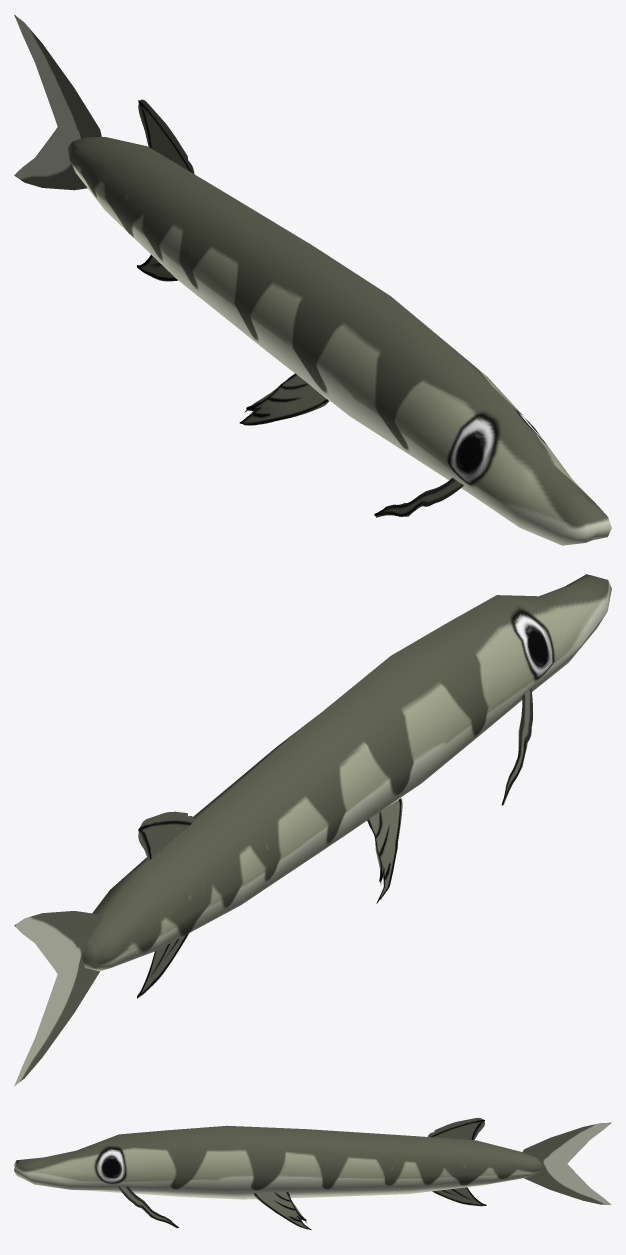
The model's file is Banana_Fish.fbx.
The picture shows the model from 3 angles, top to bottom: view 1: azimuth 30°, elevation 25°; view 2: azimuth 150°, elevation 25°; view 3: azimuth 270°, elevation 25°; orthographic projection. The views are drawn at different scales.
Parts seen in each view (by area): view 1: Sphere.003; view 2: Sphere.003; view 3: Sphere.003.
Part boxes in pixels (x1,y1,x2,y2): Sphere.003: (14,14,611,545); Sphere.003: (14,574,611,1086); Sphere.003: (14,1117,611,1229).
Size of the model in its own units: 74.09 by 109 by 549.
1 material, 1 textured.
